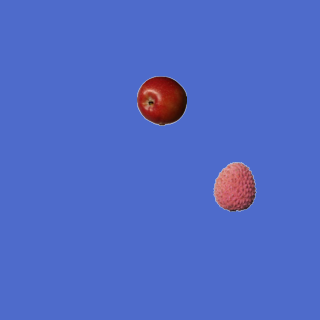Apple Braeburn: (136, 75, 186, 125)
Lychee: (209, 161, 259, 211)
